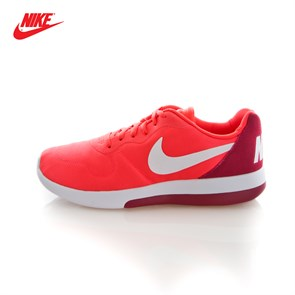nike: (145, 135, 233, 175)
